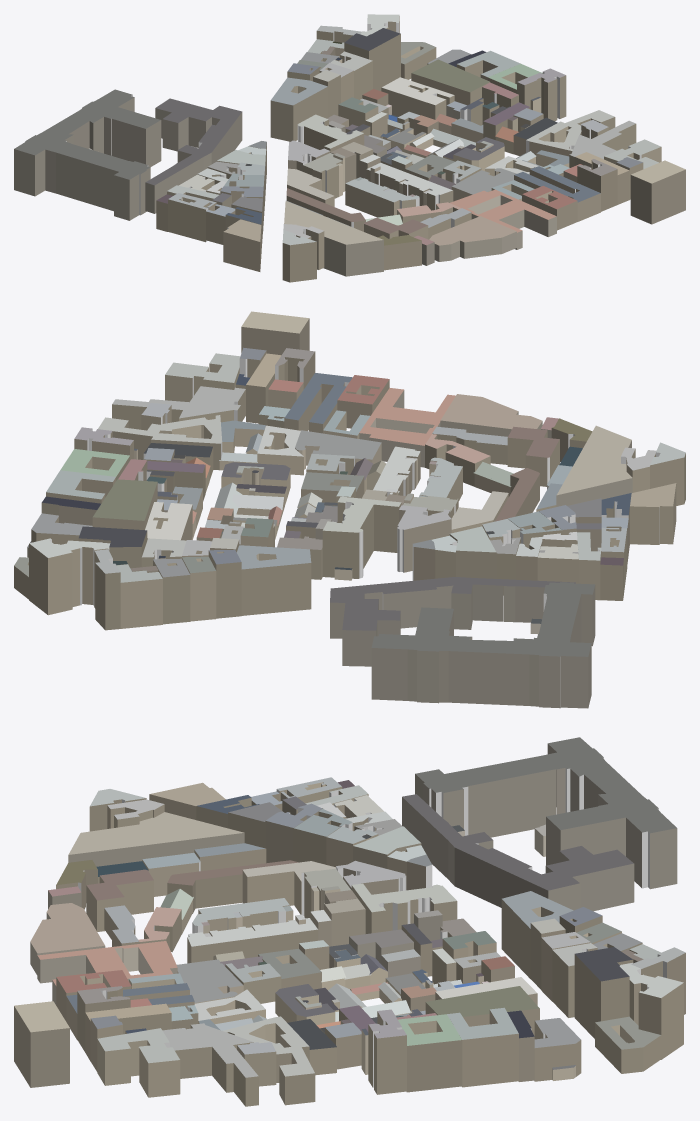
The picture shows the model from 3 angles, top to bottom: view 1: azimuth 30°, elevation 25°; view 2: azimuth 150°, elevation 25°; view 3: azimuth 270°, elevation 25°; orthographic projection. The views are drawn at different scales.
Visible parts, largest first — view 1: tuile; view 2: tuile; view 3: tuile.
Part boxes in pixels (left/top/right/bottom): tuile: left=14, top=14, right=685, bottom=282; tuile: left=14, top=311, right=685, bottom=708; tuile: left=14, top=737, right=685, bottom=1106.
Bounding box in the file's own units: 308 × 32.75 × 263.
